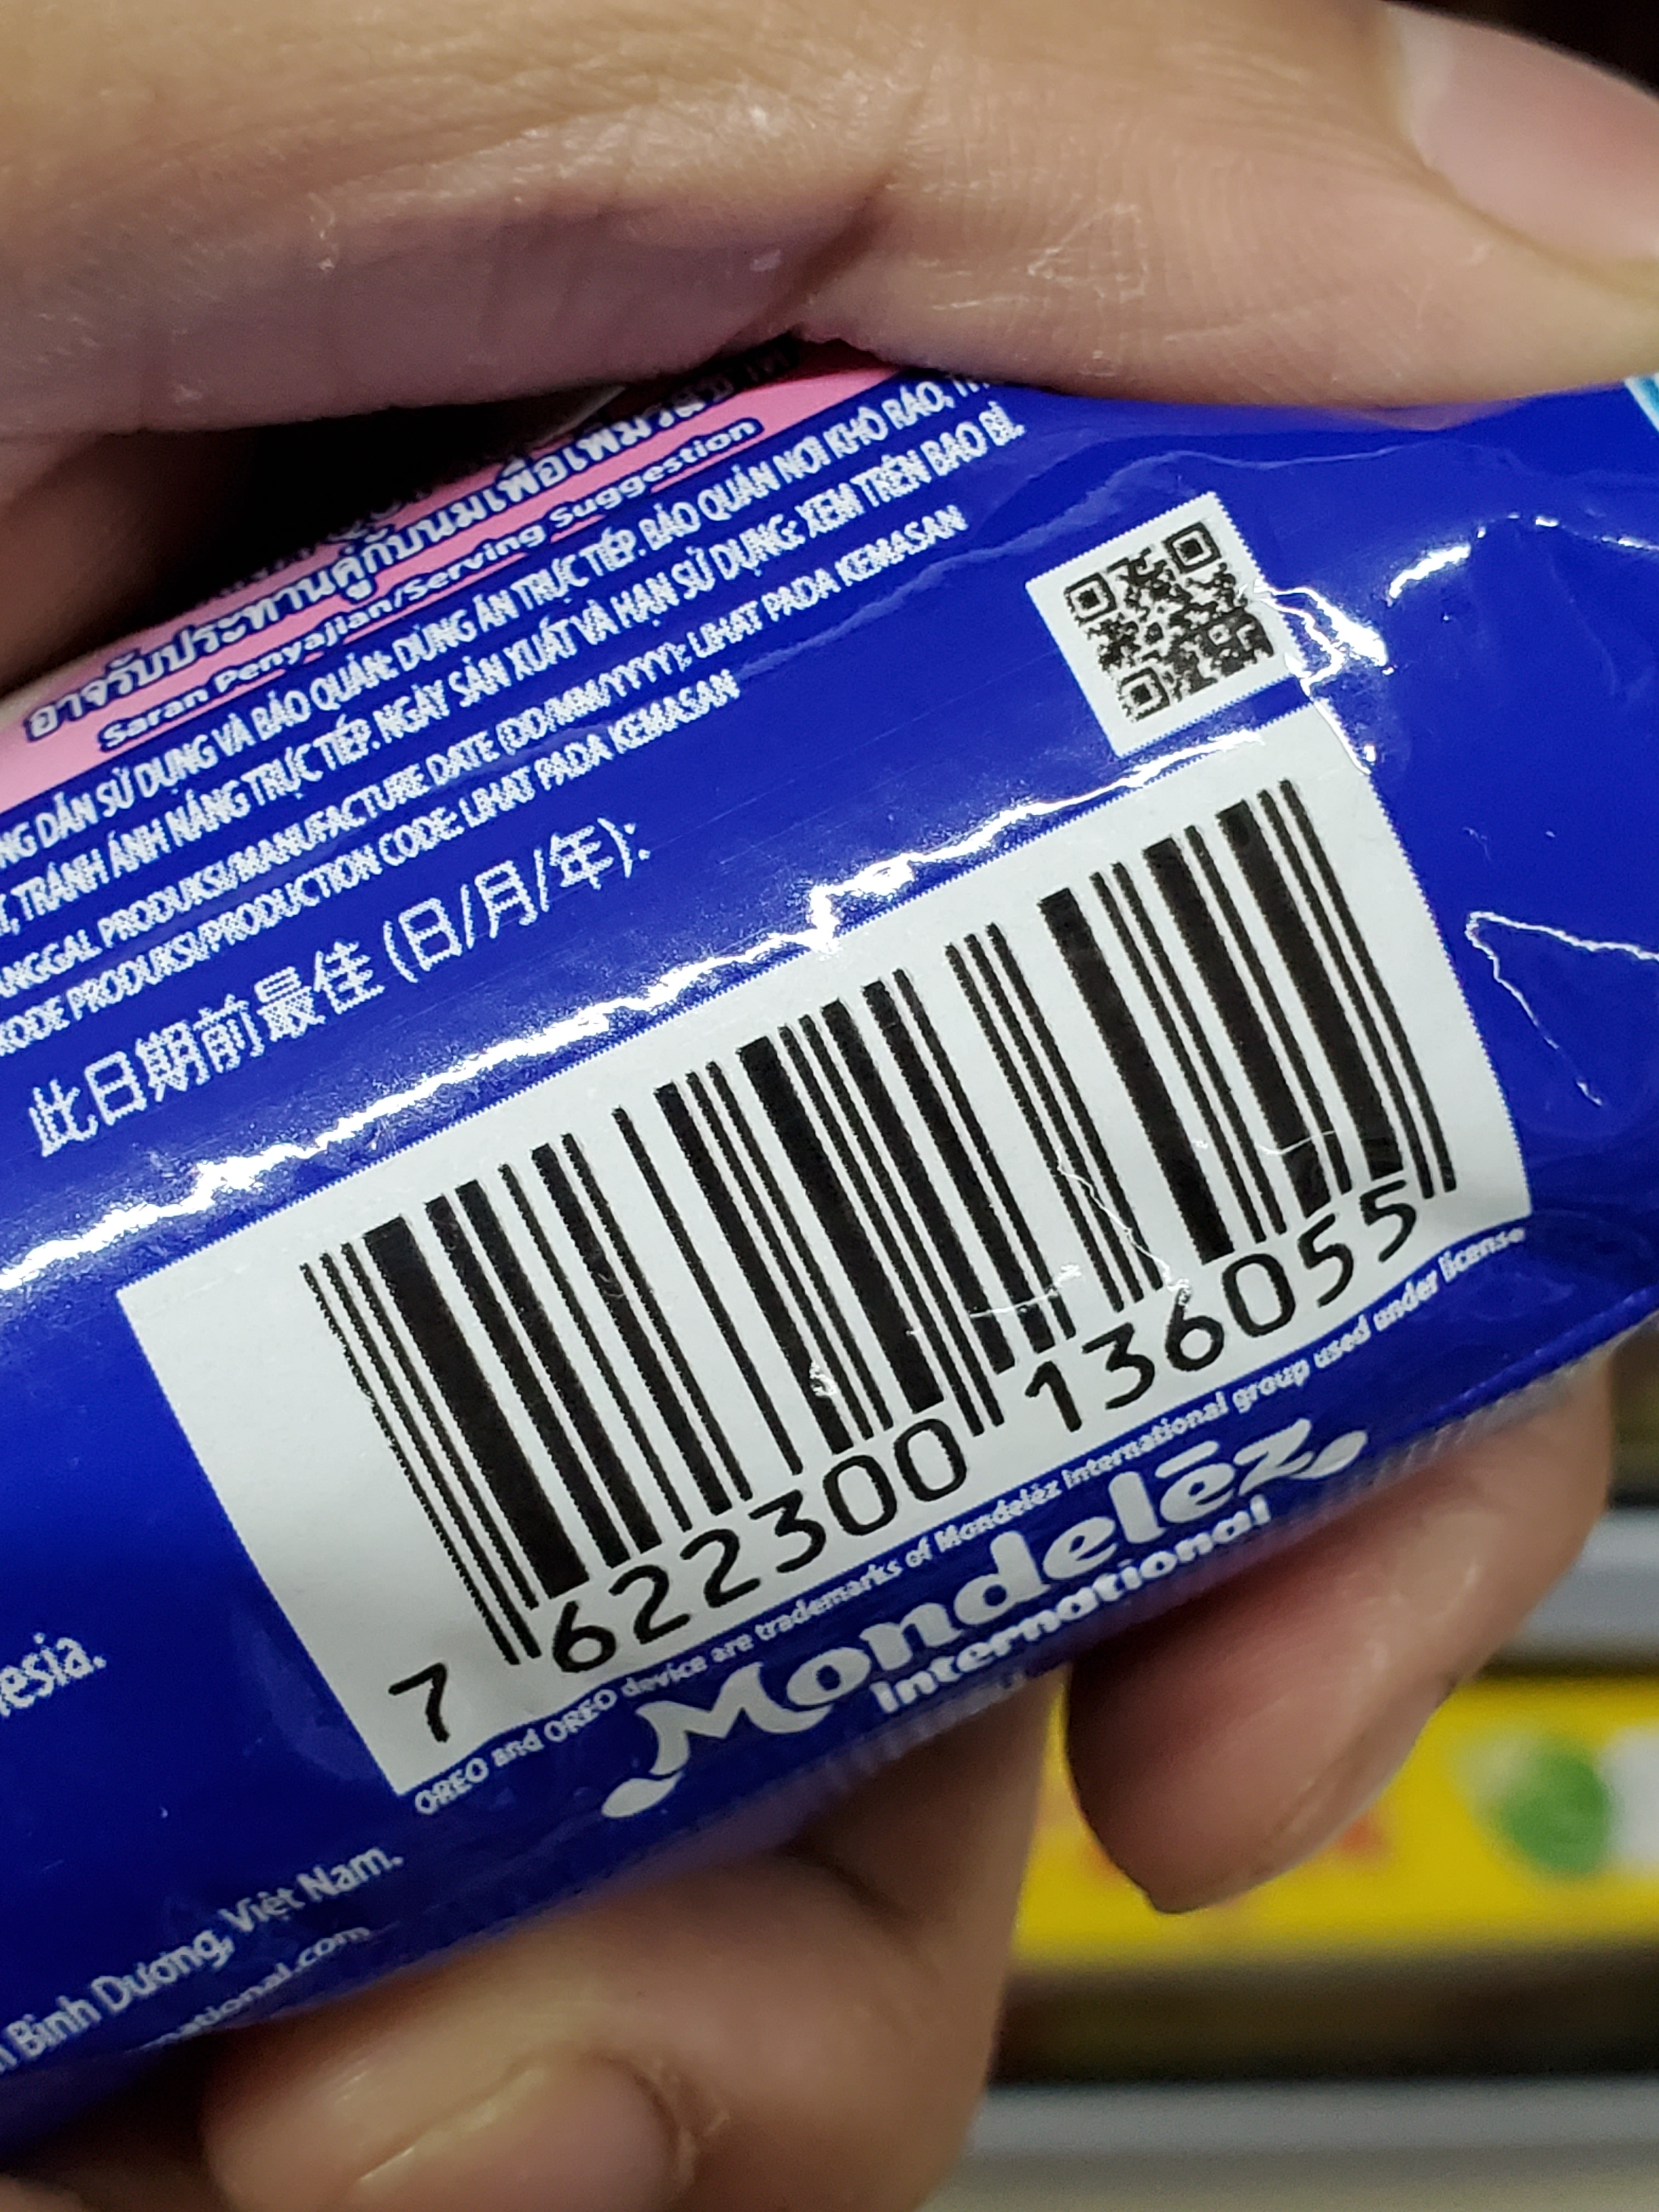barcode: (164, 768, 1547, 1782)
qr code: (1002, 500, 1298, 733)
